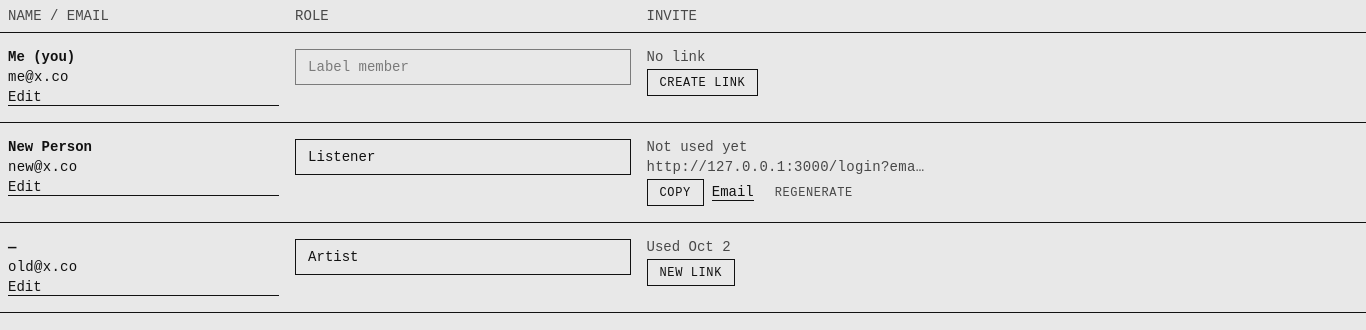
Scenario: UsersTable › saves a role change and reverts on error
Select "Artist" in the dropdown named "Role for new@x.co" at [463, 157], box [295,139,630,175]
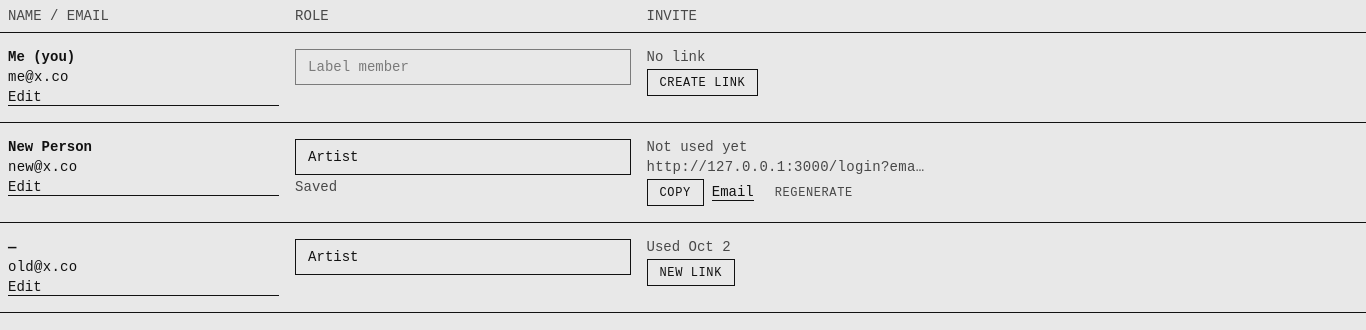
Check: the text "Saved" is shown, box [295,179,337,195]
Select "Label member" in the dropdown named "Role for new@x.co" at [463, 157], box [295,139,630,175]
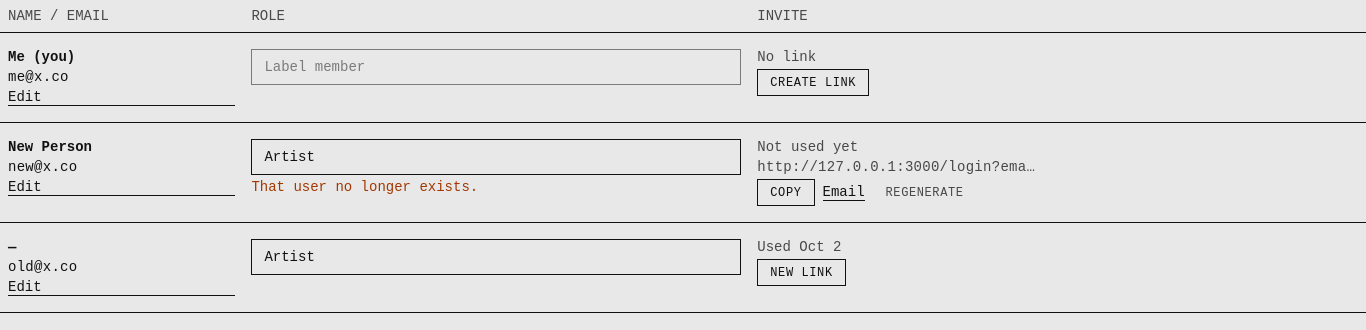
Check: the message reads "That user no longer exists.", box [251,179,478,195]
